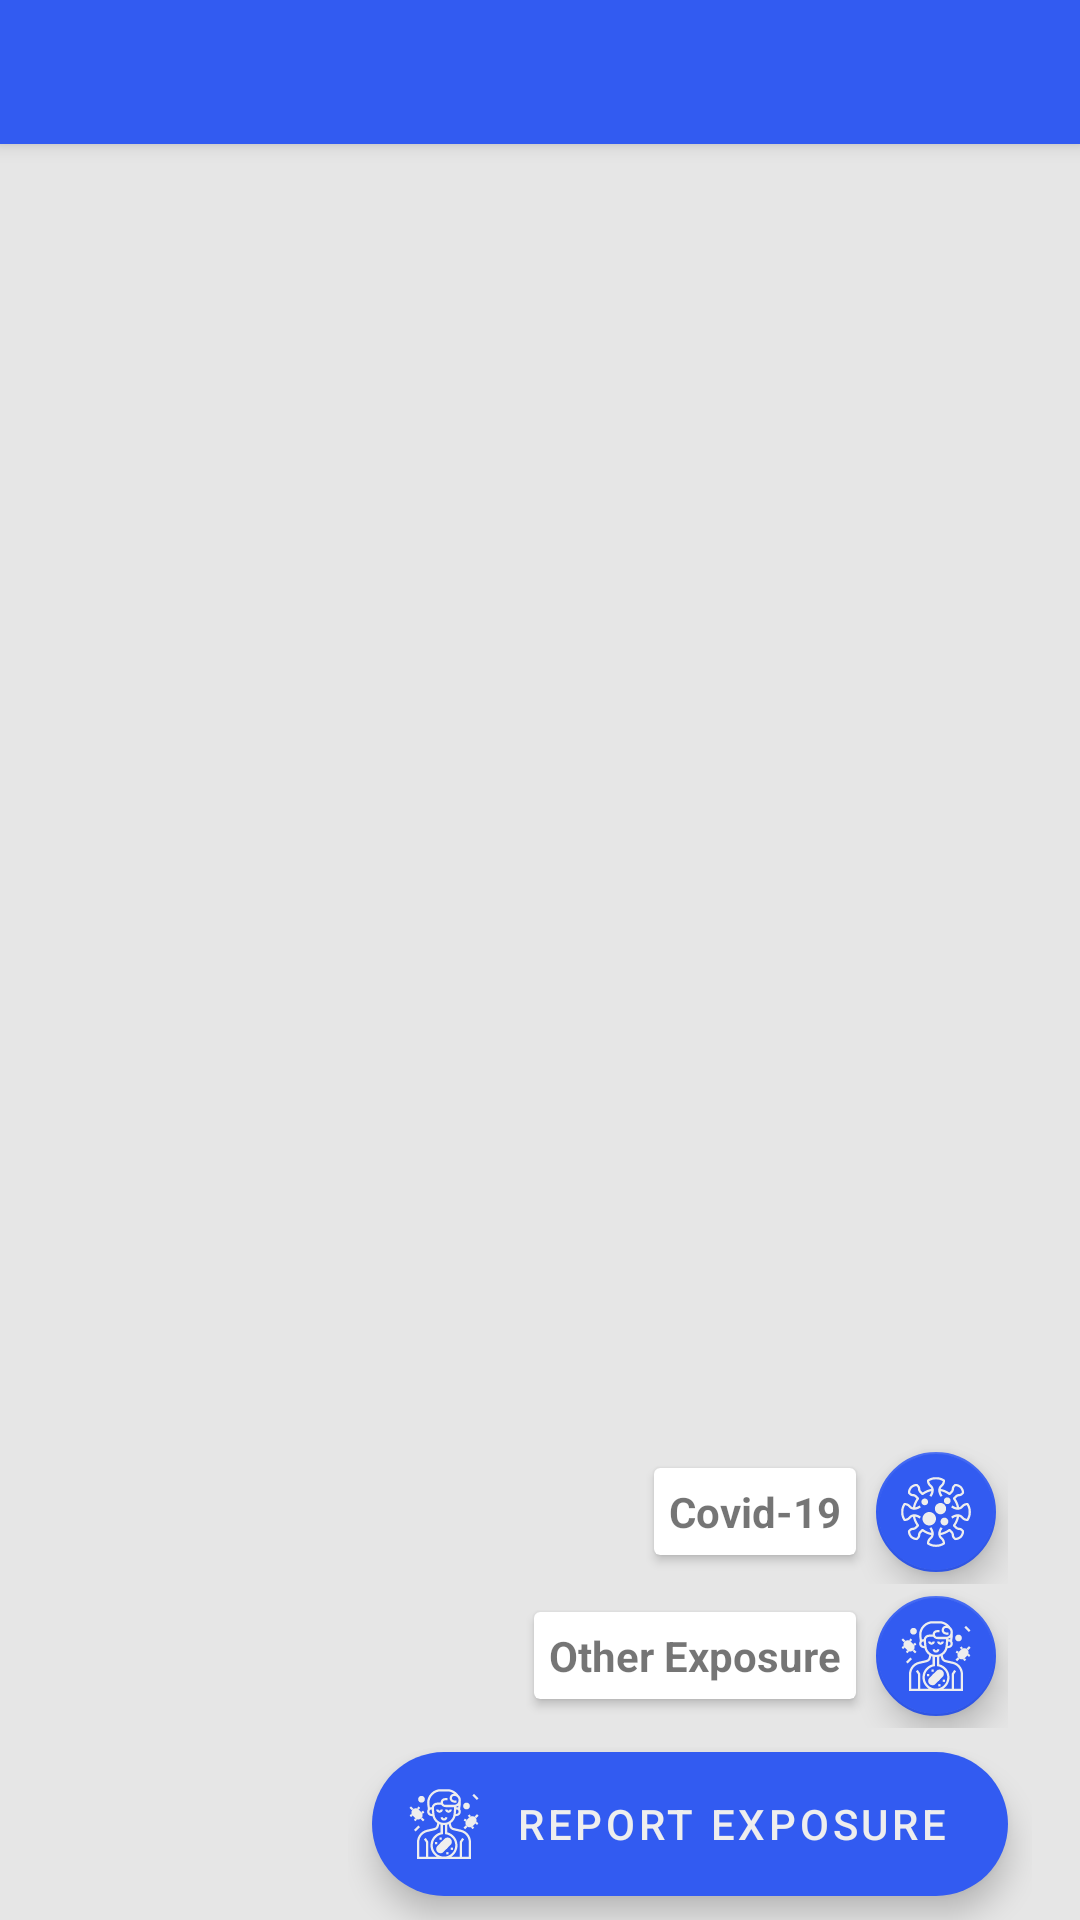

Icon click points for this 1080px x 1920px phone screenshot, format (x,y):
coronavirus: (936,1517)
